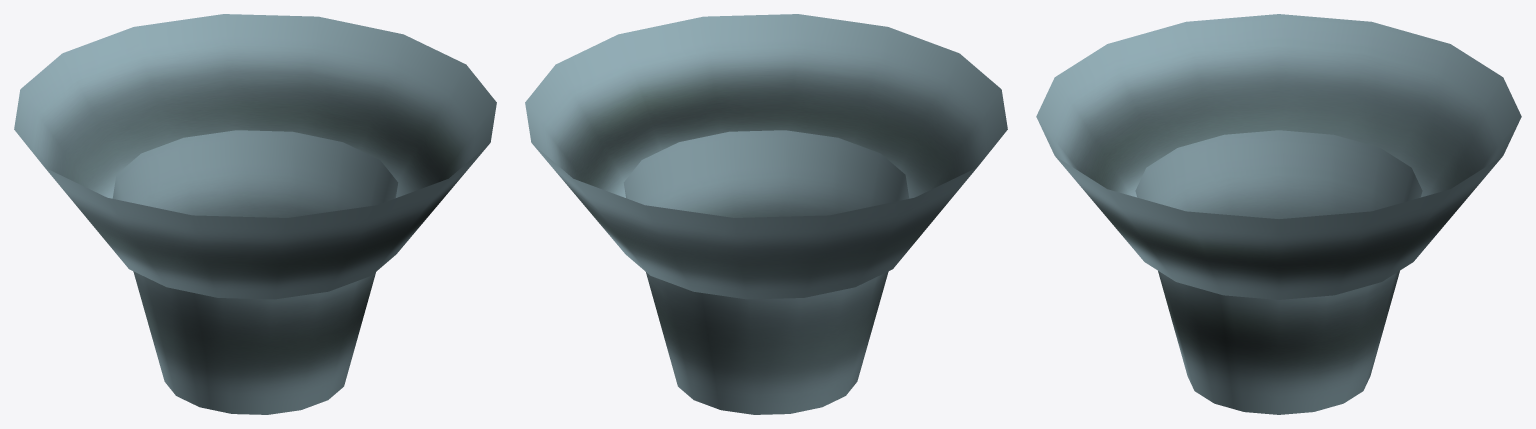
File: xuanfeng3.FBX
3 renders of one model, left to right at view 1: azimuth 30°, elevation 25°; view 2: azimuth 150°, elevation 25°; view 3: azimuth 270°, elevation 25°, orthographic.
Parts seen in each view (by area): view 1: Cylinder02; view 2: Cylinder02; view 3: Cylinder02.
Part boxes in pixels (x1,y1,x2,y2): Cylinder02: [14, 14, 496, 414]; Cylinder02: [525, 14, 1007, 414]; Cylinder02: [1036, 14, 1521, 414].
Size of the model in its own units: 95.22 by 56.21 by 95.22.
